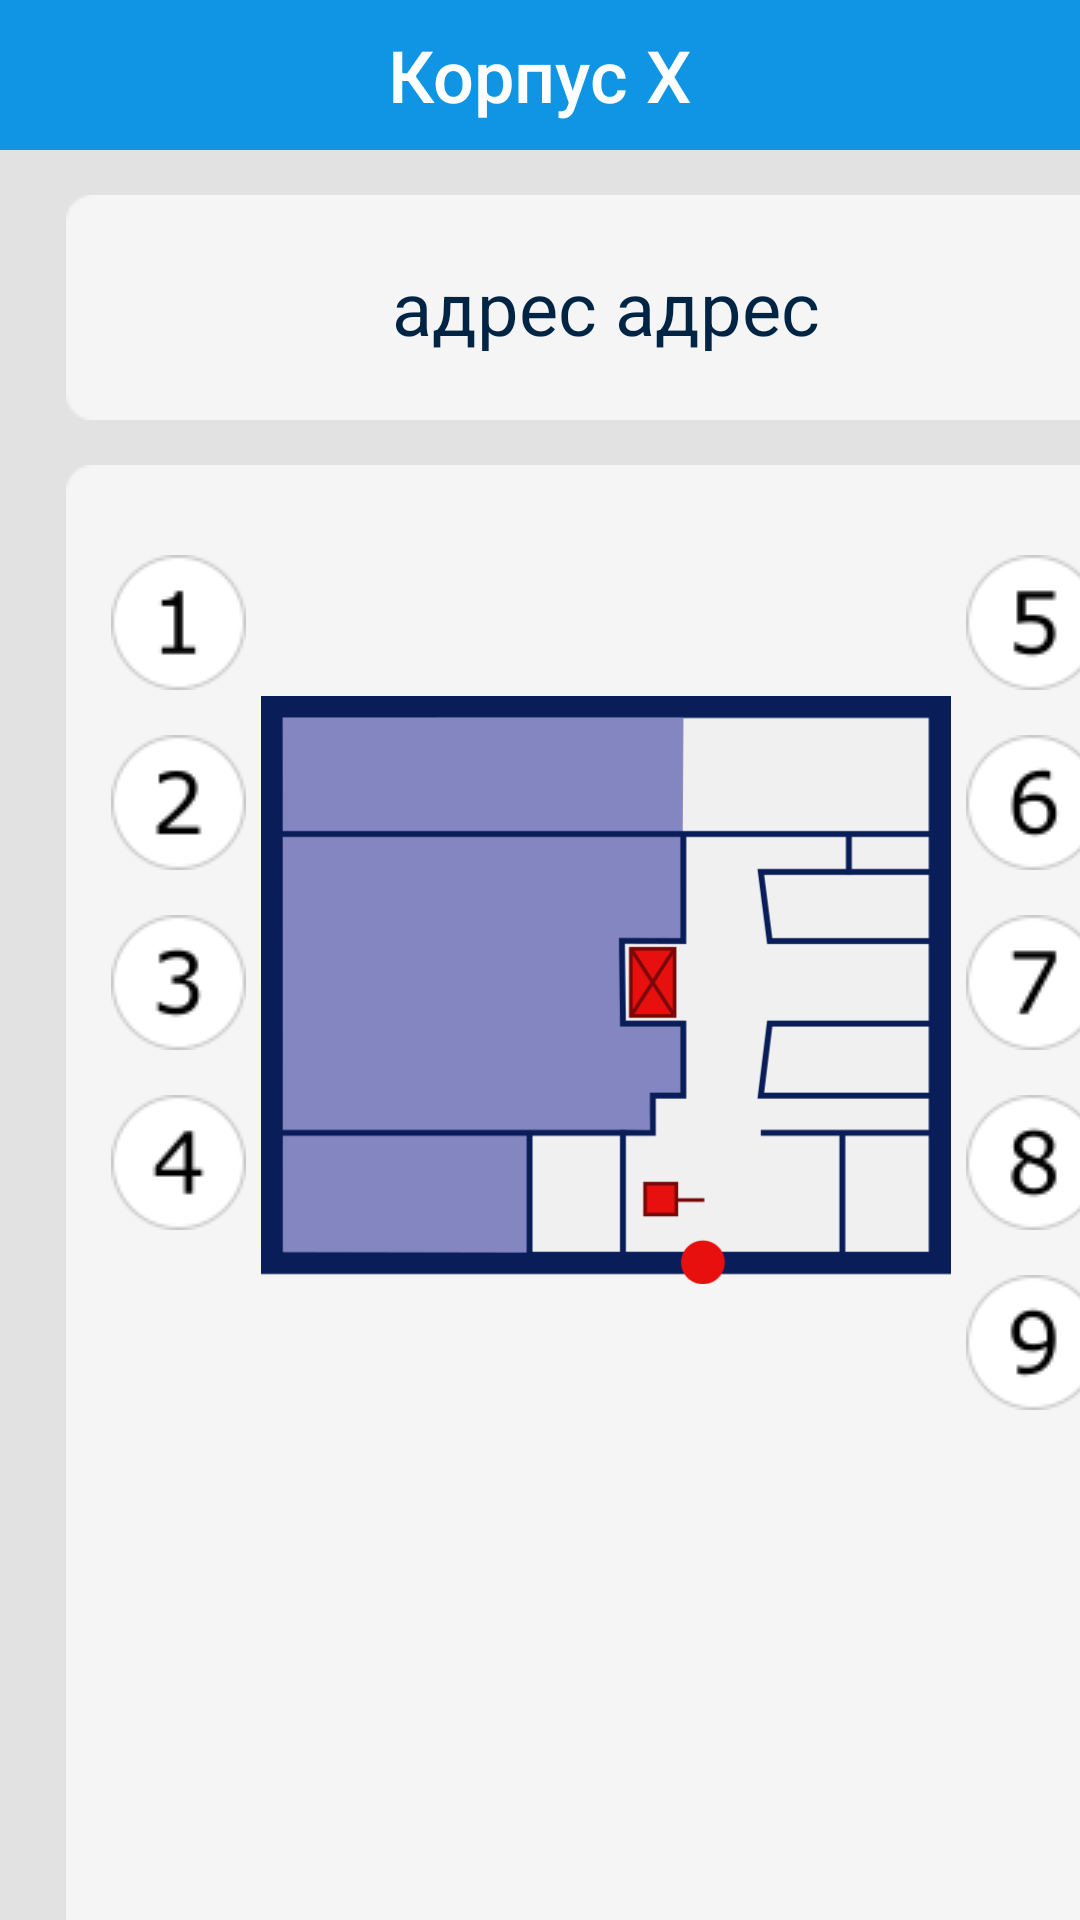

Icons on this 1080*1920 Android screen, each with the point to tap as (x,y):
Второй этаж: (178,802)
Первый этаж: (178,622)
Третий этаж: (178,982)
Четвёртый этаж: (178,1162)
